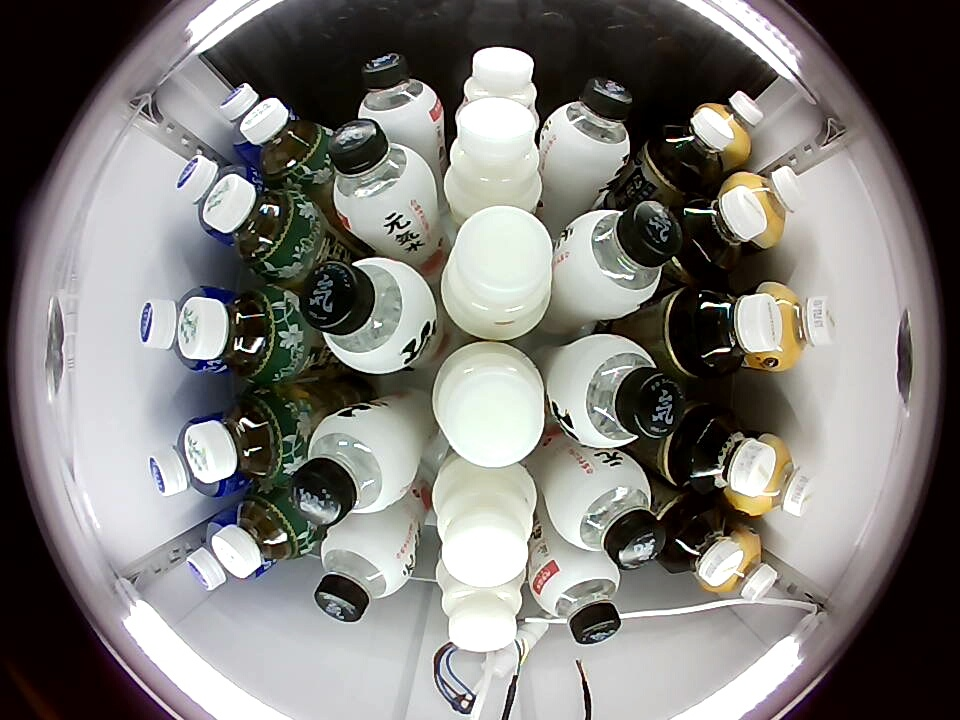asamu: (766, 283, 837, 370), (743, 442, 816, 517), (736, 165, 804, 240), (712, 532, 778, 601), (701, 90, 764, 159)
baishikele: (659, 105, 735, 181)
baokuangli: (147, 421, 233, 498), (139, 287, 211, 373), (175, 153, 253, 232), (185, 520, 260, 591), (219, 83, 278, 153)
moliqingcha: (178, 285, 297, 384), (185, 386, 302, 485), (204, 173, 314, 276), (211, 484, 314, 578), (241, 98, 334, 185)
wulongcha: (688, 287, 783, 379), (685, 408, 776, 498), (682, 186, 769, 275), (665, 505, 743, 586)
yingyangkuaixian: (440, 207, 554, 341), (431, 342, 548, 468), (430, 459, 540, 586), (443, 99, 544, 218), (436, 559, 525, 651), (455, 47, 540, 122)
yuanqishui: (301, 257, 437, 374), (290, 404, 419, 527), (548, 333, 681, 448), (554, 202, 684, 318), (545, 451, 665, 569), (325, 120, 437, 240), (313, 518, 415, 624), (539, 75, 635, 180), (531, 552, 622, 645), (358, 52, 444, 138)
